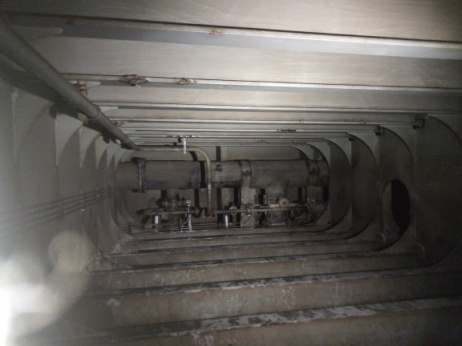corrosion: (116, 66, 149, 85), (171, 73, 195, 85), (207, 32, 227, 42)
